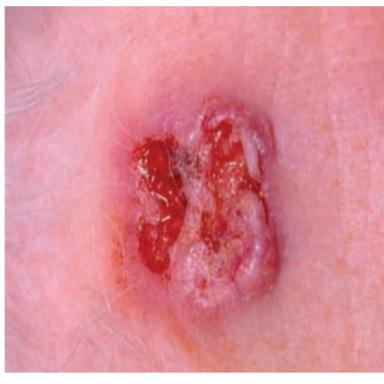basal-cell-carcinoma: (131, 93, 277, 322)
